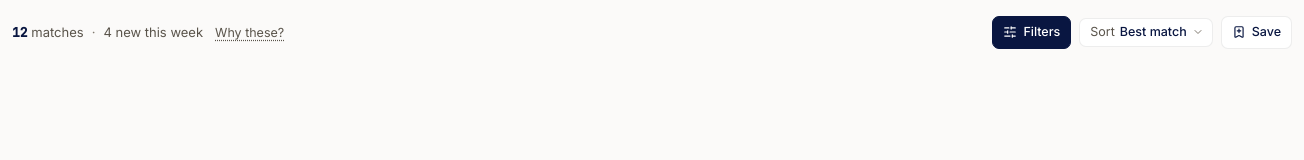
OppsSummaryRow › Why these? › names values from the member's real business profile
The width and height of the screenshot is (1304, 160).
Click the button "Why these?": (250, 33) [215,24,284,42]
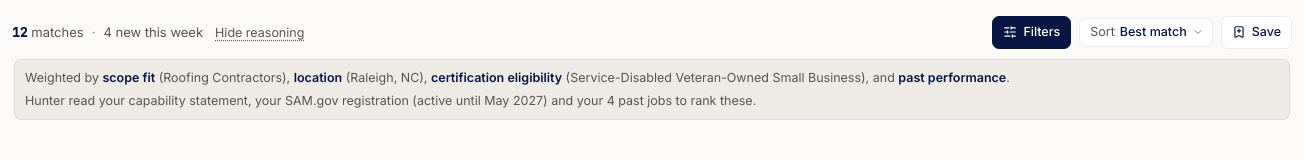
Result: the element with class "opps-summary__reasoning" shows "Roofing Contractors" at [163,70,282,85]
Result: the element with class "opps-summary__reasoning" shows "Raleigh, NC" at [350,70,419,85]
Result: the element with class "opps-summary__reasoning" shows "Service-Disabled Veteran-Owned Small Business" at [570,70,861,85]
